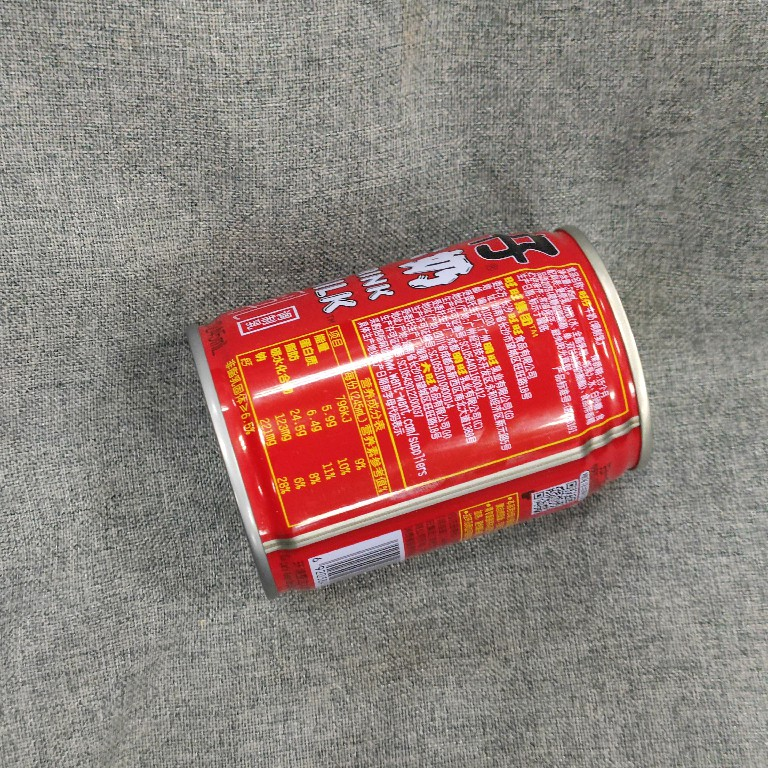can: (181, 220, 659, 600)
